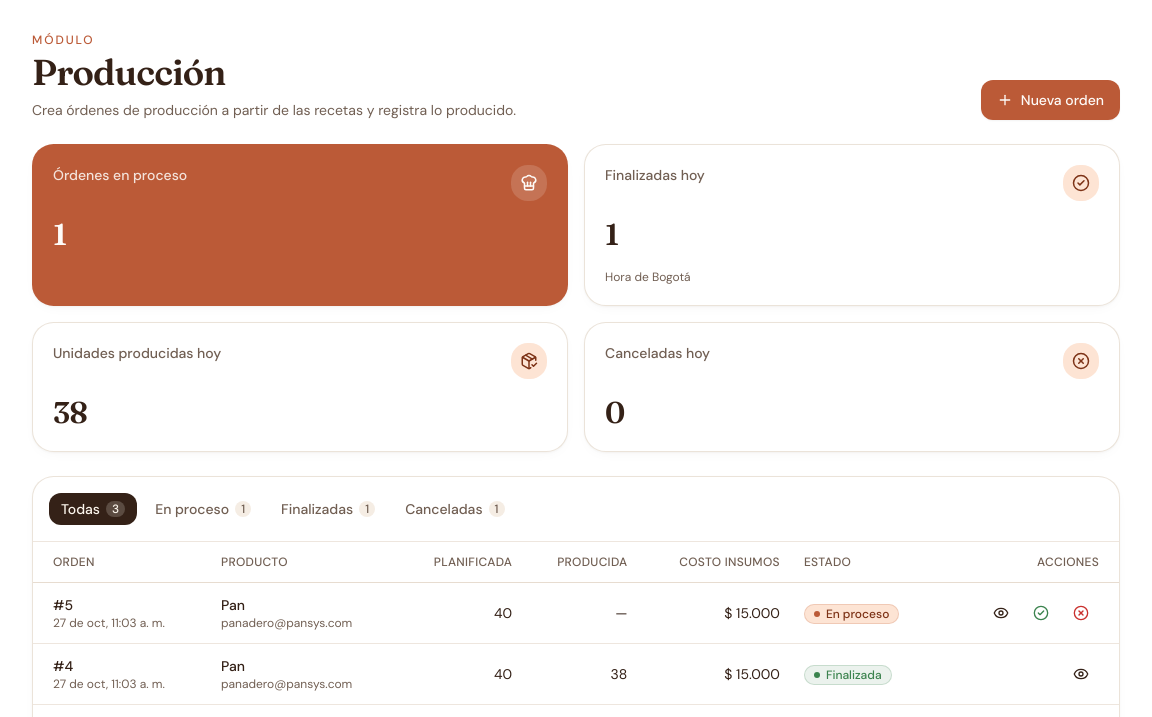
Scenario: Finalizar › envía la cantidad producida al PATCH real y recarga las órdenes
Expected: the row "#5" is shown, [33,582,1119,643]
Click the button named "Finalizar la orden #5" at (1041, 612), box [1023,594,1059,630]
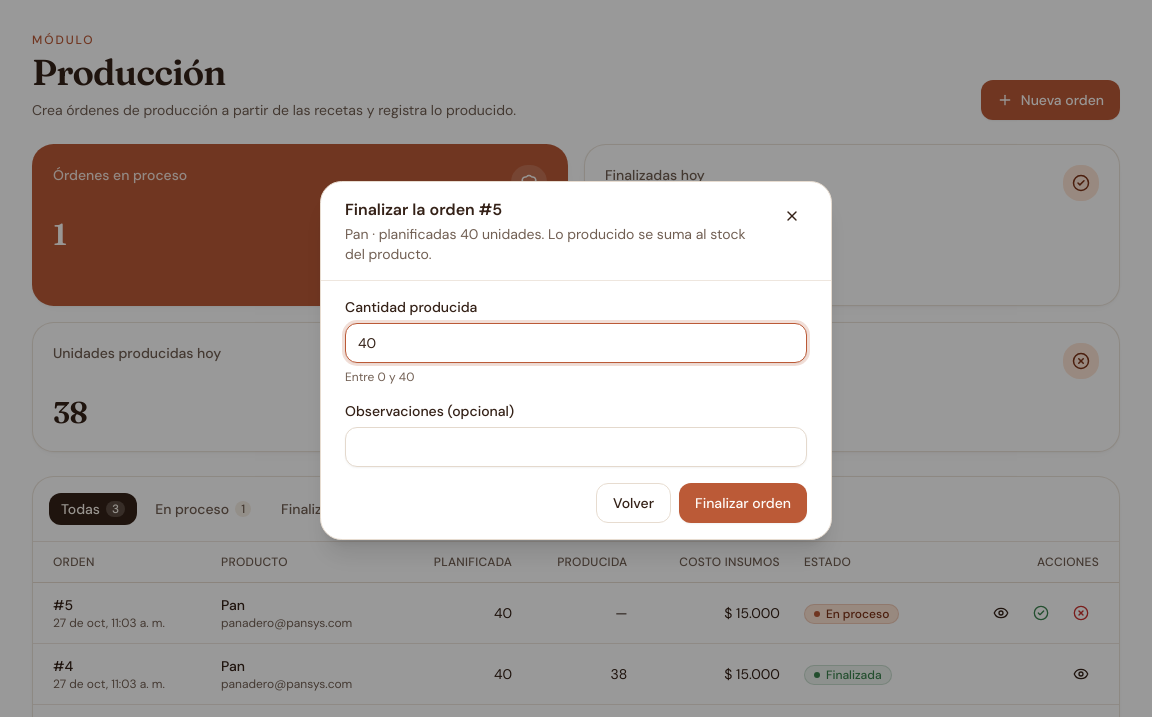
Expected: the field labelled "Cantidad producida" holds "40"
Replace the text in the field labelled "Cantidad producida" with "38" at (576, 342), box [345,322,807,362]
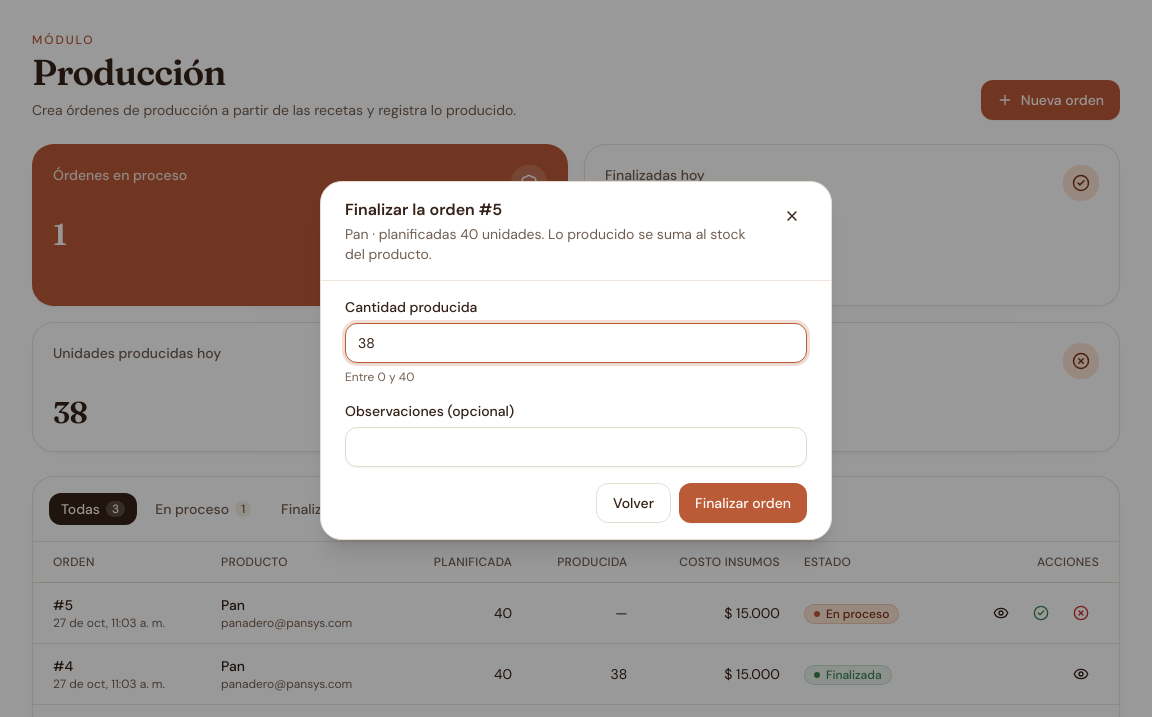
Click the button "Finalizar orden" at (743, 502), box [679,482,807,522]
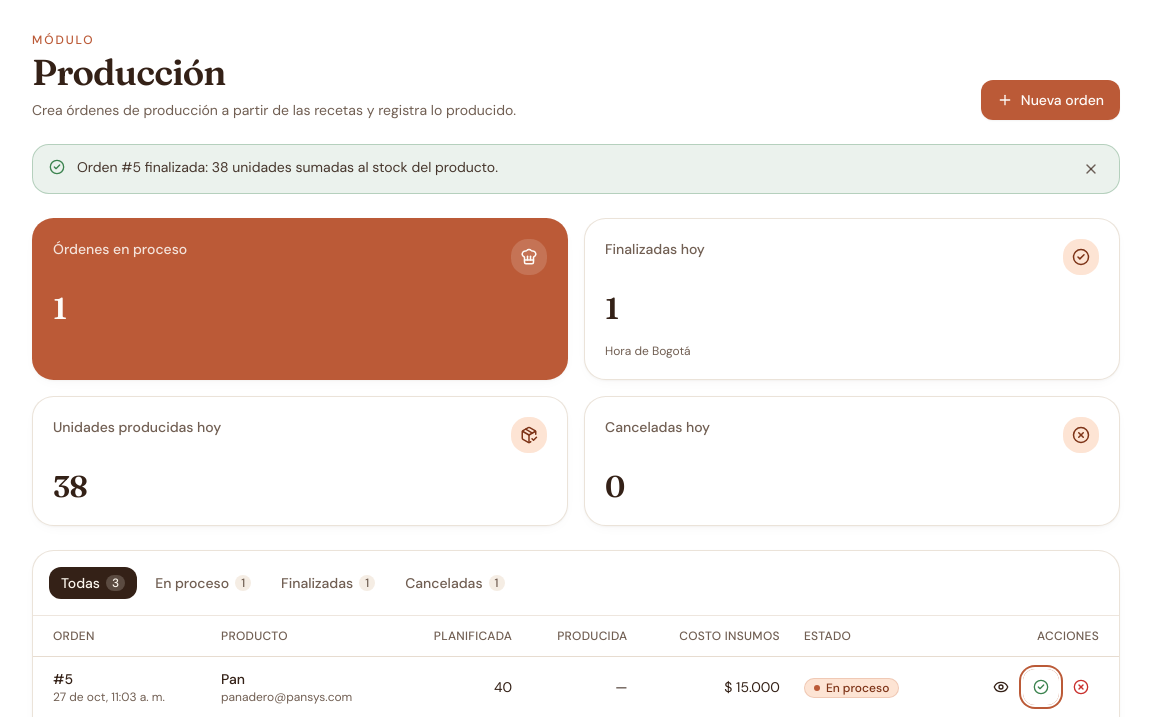
Expected: the text "Orden #5 finalizada: 38 unidades" is shown, [77,158,498,176]
Expected: the dialog is gone
